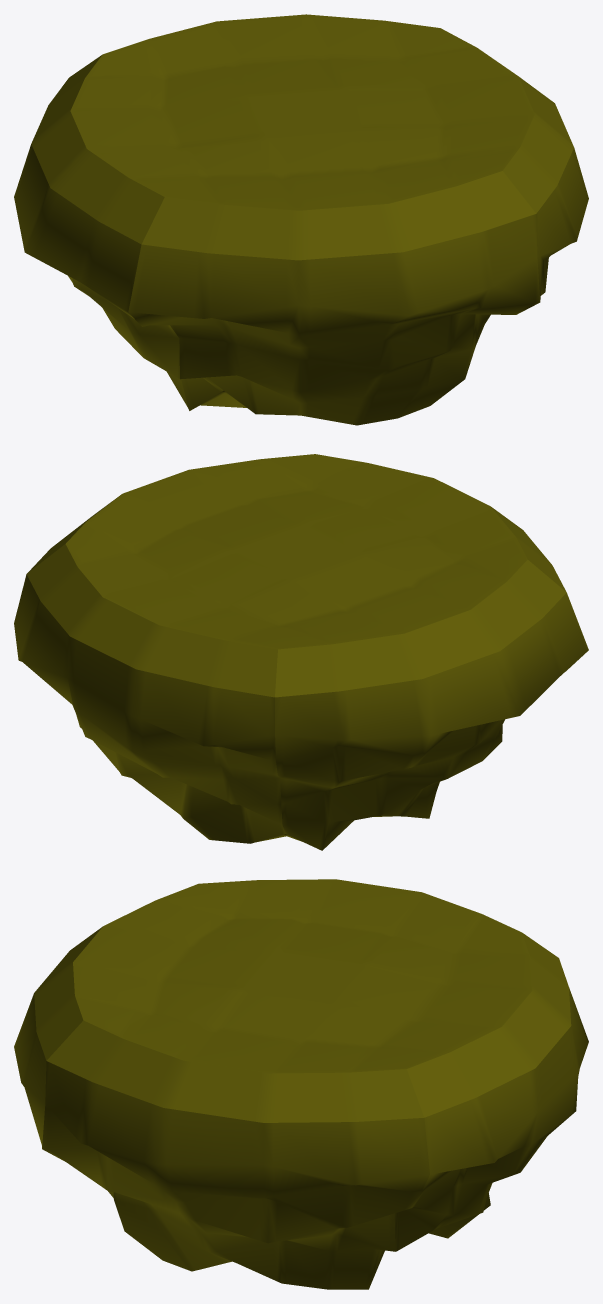
Rendered from isla.fbx.
The picture shows the model from 3 angles, top to bottom: view 1: azimuth 30°, elevation 25°; view 2: azimuth 150°, elevation 25°; view 3: azimuth 270°, elevation 25°; orthographic projection. The views are drawn at different scales.
Visible parts, largest first — view 1: isla2; view 2: isla2; view 3: isla2.
Part boxes in pixels (x1,y1,x2,y2): isla2: (14,14,588,425); isla2: (14,454,588,850); isla2: (14,879,588,1289).
Size of the model in its own units: 55.87 by 27.99 by 55.21.
